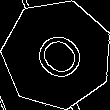O_SE: (23, 21, 91, 88)
